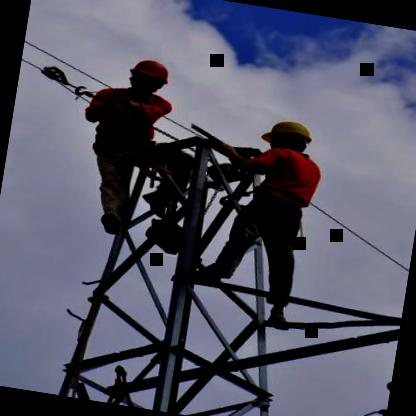helmet: (260, 110, 322, 158), (119, 51, 178, 100)
